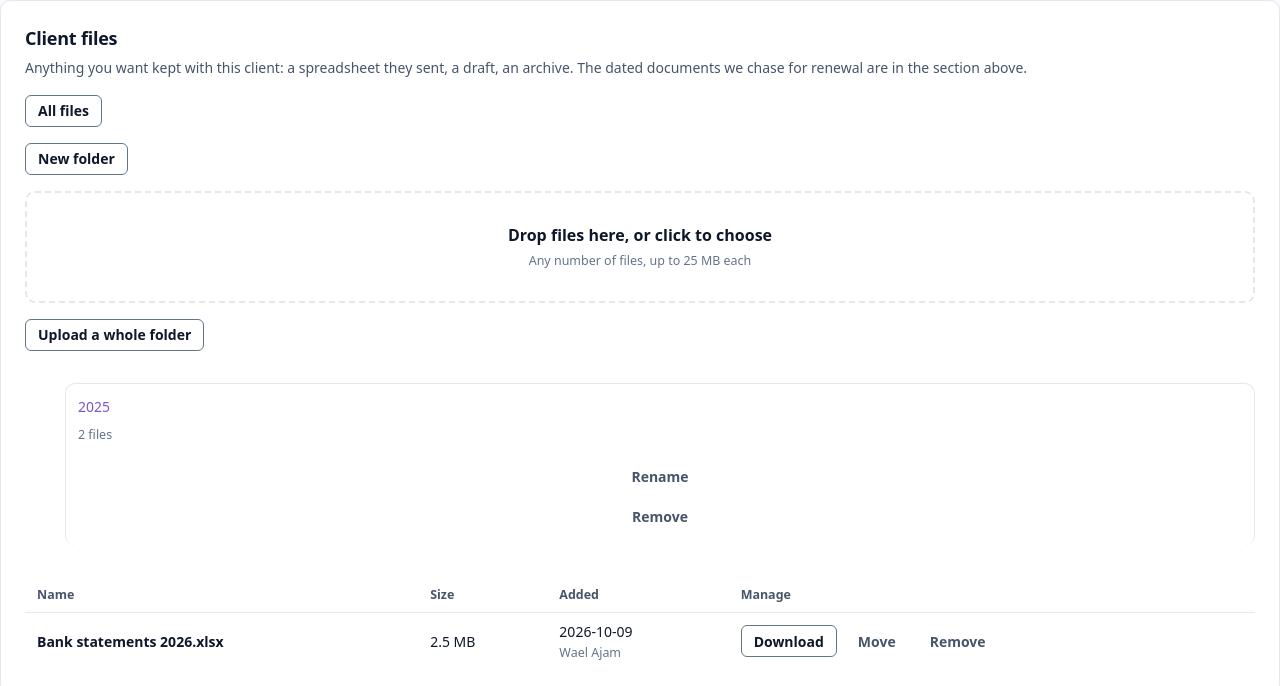
Test: folders inside the client’s folder › asks before deleting a folder, and says why when it is not empty
Click the button "Remove" below "2 files" at x=660, y=517, box x1=78 y1=501 x2=1242 y2=533
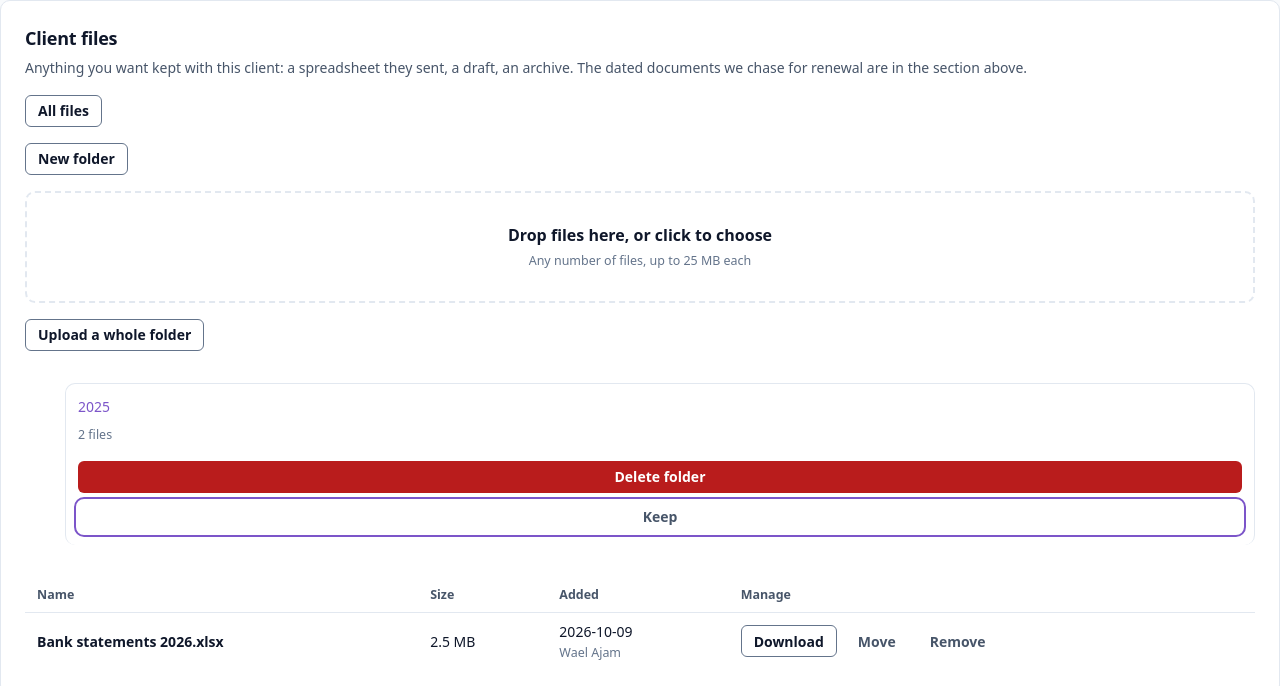
Click the button "Delete folder" at x=660, y=477, box x1=78 y1=461 x2=1242 y2=493
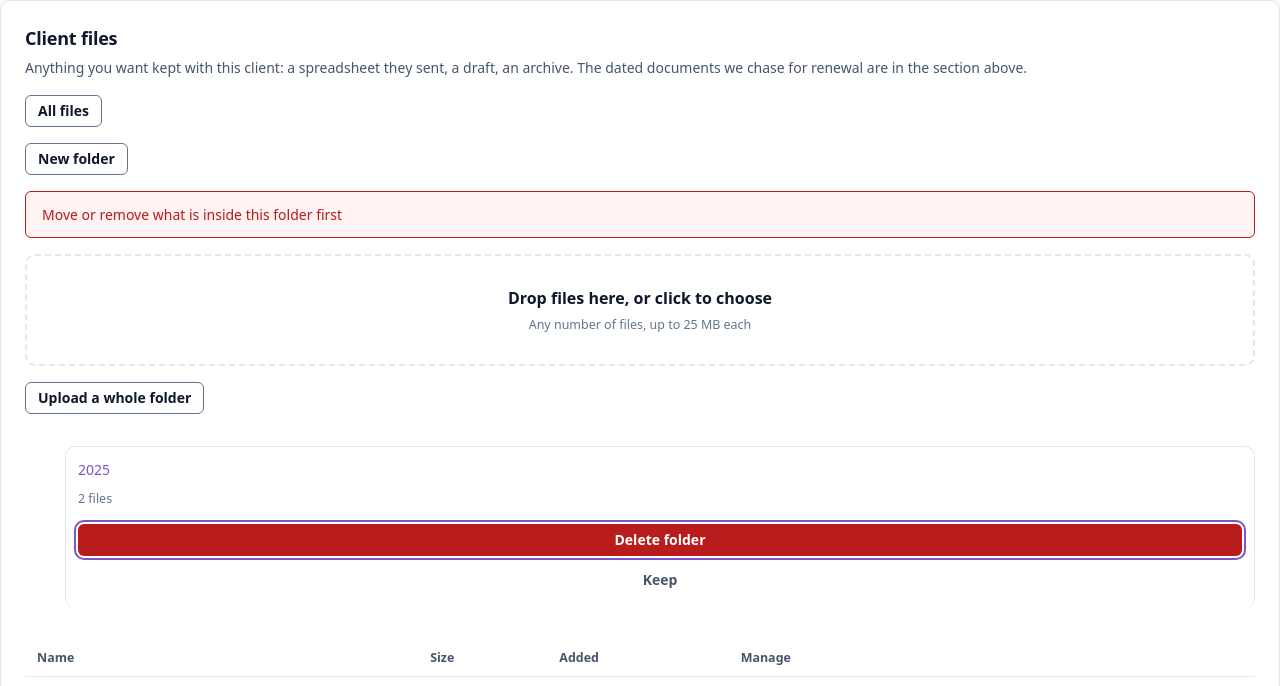
Check: the text "Move or remove what is inside this folder first" is shown, box x1=25 y1=191 x2=1255 y2=238
